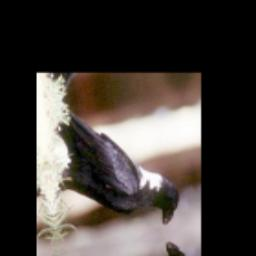Crow: (43, 81, 187, 250)
